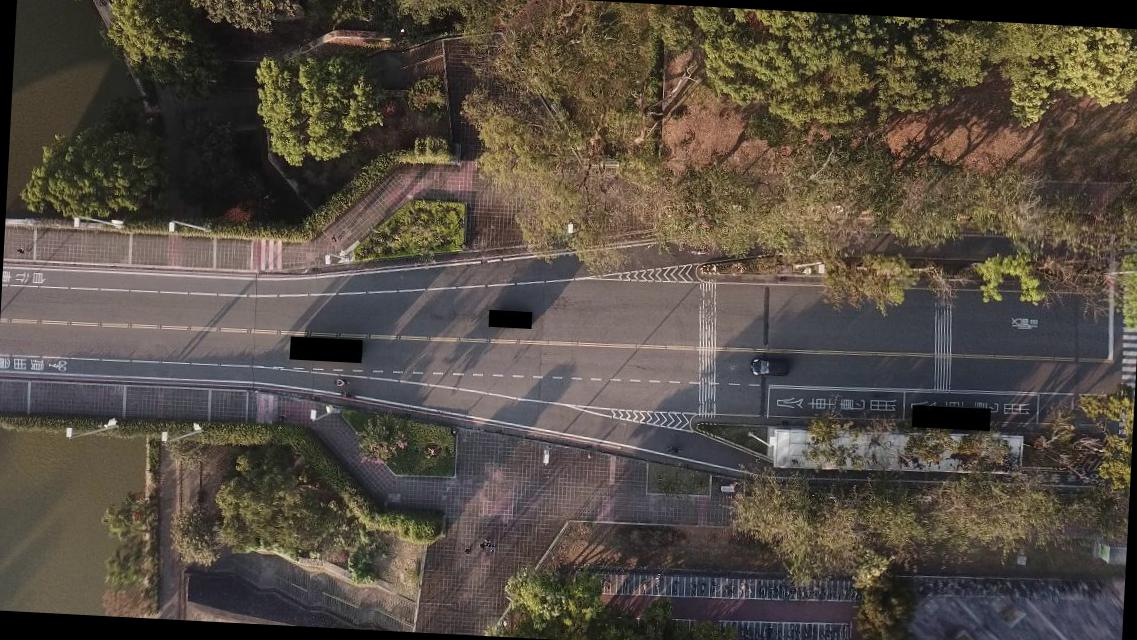vehicle: (748, 358, 792, 378)
